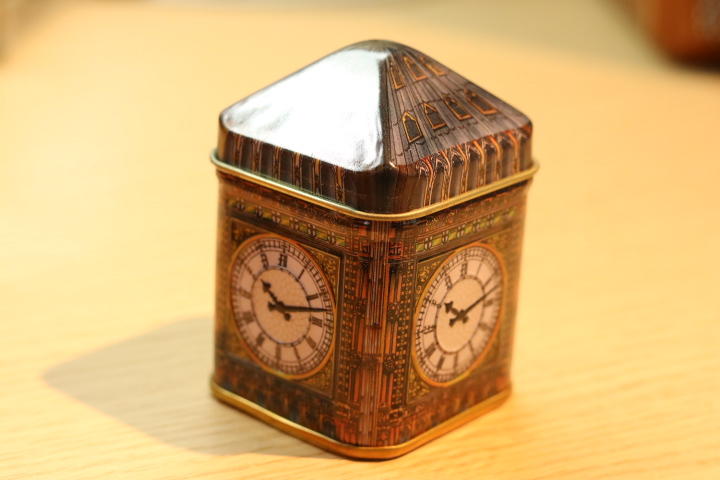Big Ben: (198, 26, 559, 480)
